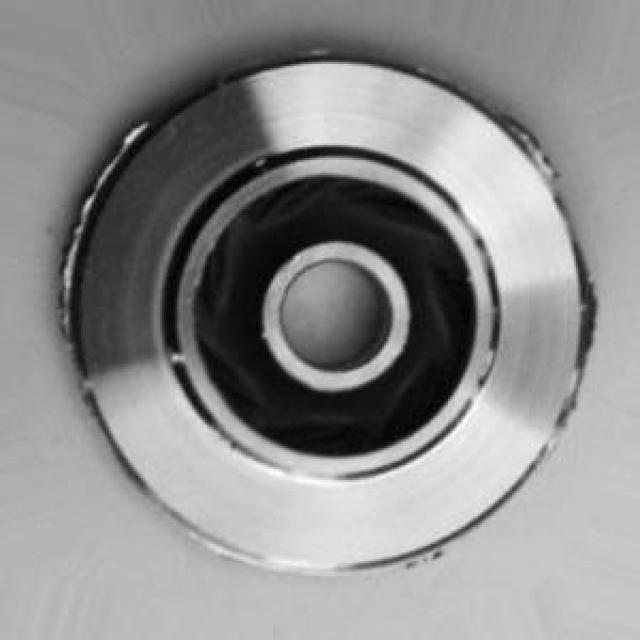Defect: (504, 114, 561, 178)
